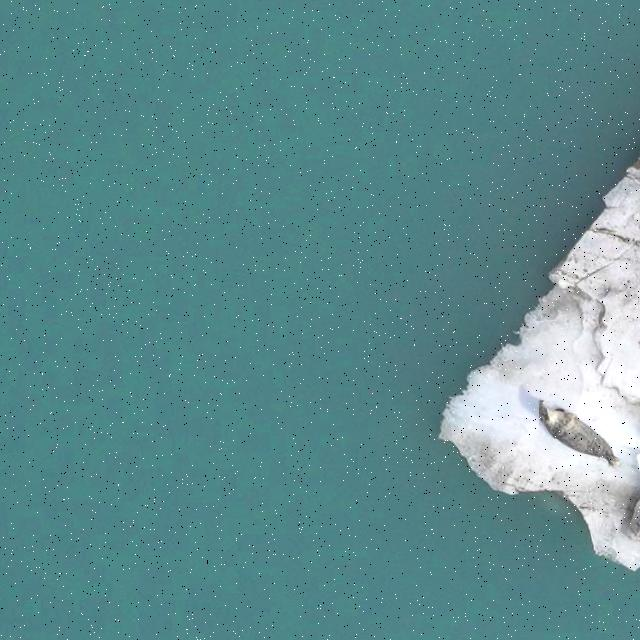seal: (529, 394, 627, 478)
